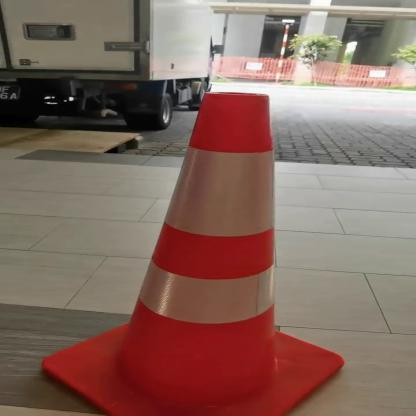cone: (31, 84, 377, 416)
